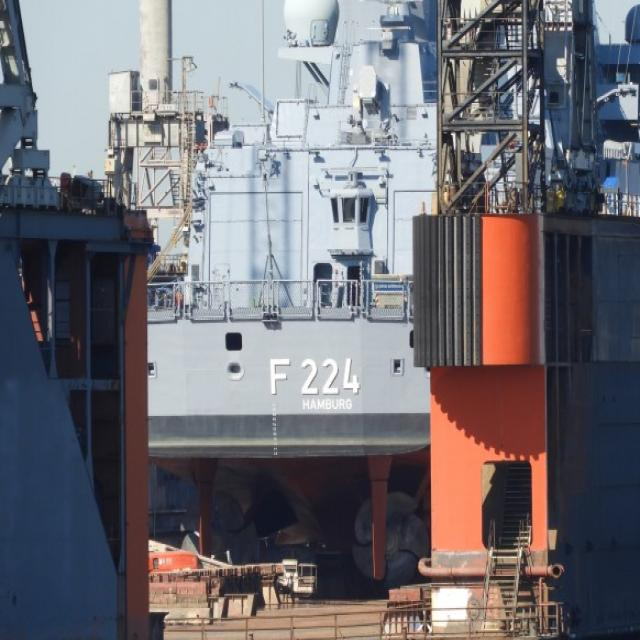Fragata: (88, 1, 627, 502)
